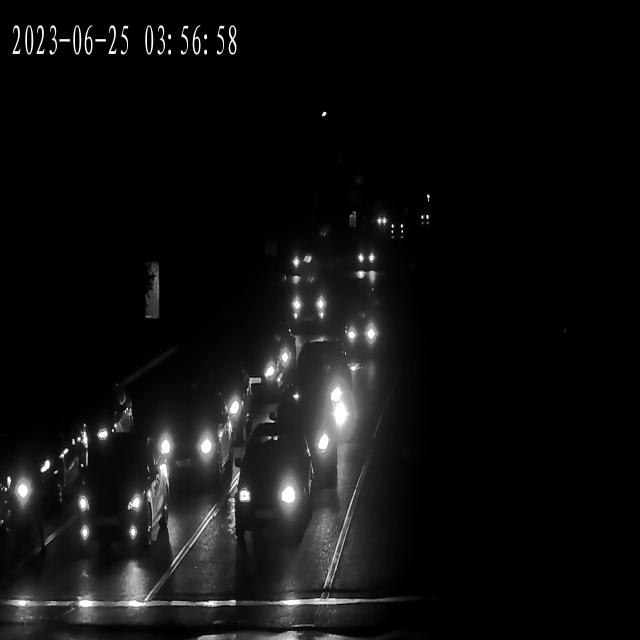Car: (129, 384, 233, 494), (68, 451, 168, 558), (0, 408, 81, 530), (234, 435, 312, 547), (280, 361, 366, 451), (169, 362, 254, 442), (222, 326, 300, 394), (214, 338, 287, 398), (336, 314, 382, 359), (286, 286, 326, 324), (349, 242, 377, 272), (288, 247, 316, 274), (384, 218, 406, 235), (370, 212, 389, 230), (418, 212, 432, 227)
